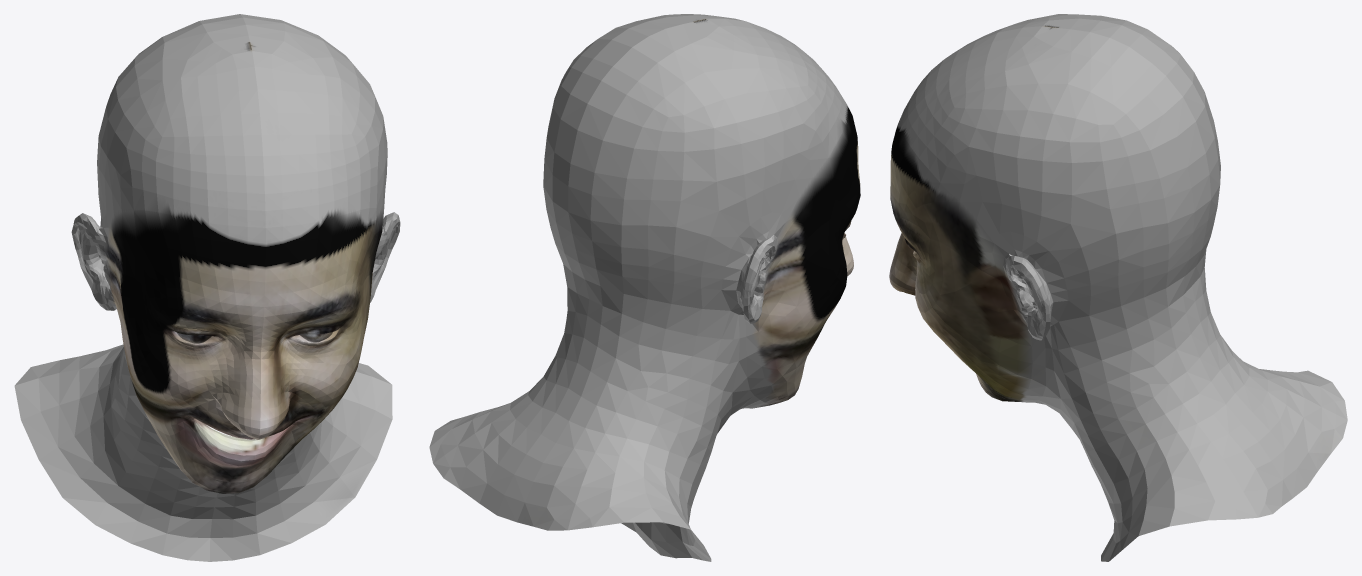
Rendered from ezgif-frame-003.obj.
3 renders of one model, left to right at view 1: azimuth 30°, elevation 25°; view 2: azimuth 150°, elevation 25°; view 3: azimuth 270°, elevation 25°, orthographic. The views are drawn at different scales.
Bounding box in the file's own units: 0.2088 × 0.3275 × 0.2657.
1 material, 1 textured.
